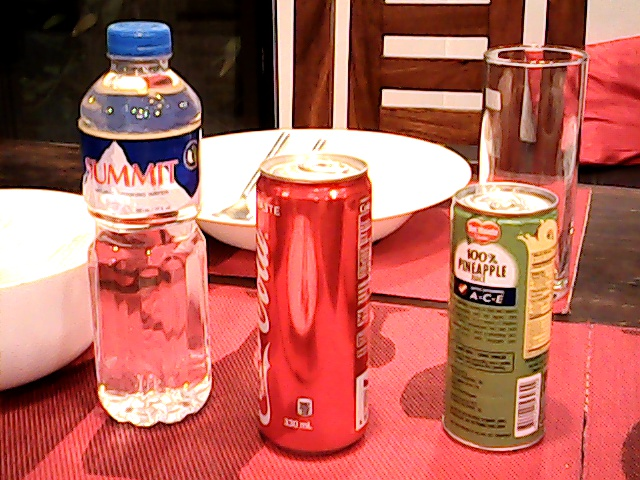Cola: (247, 145, 380, 464)
Pine Juice: (441, 165, 558, 458)
Summit Water: (71, 13, 223, 427)
